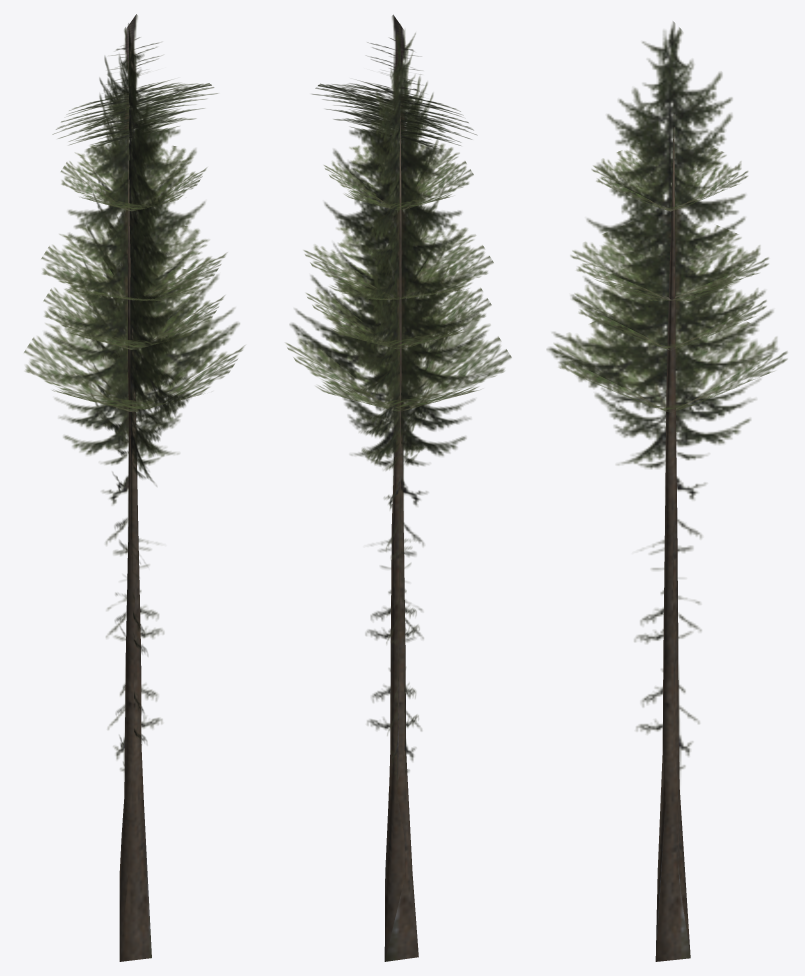
Rendered from tree_07.glb.
The picture shows the model from 3 angles, left to right: view 1: azimuth 30°, elevation 25°; view 2: azimuth 150°, elevation 25°; view 3: azimuth 270°, elevation 25°; orthographic projection.
Parts seen in each view (by area): view 1: Background_Tree_Atlas.006_Background_Tree_Atlas_0; view 2: Background_Tree_Atlas.006_Background_Tree_Atlas_0; view 3: Background_Tree_Atlas.006_Background_Tree_Atlas_0.
Boxes of the visible parts, x1,y1,x2,y2 form: Background_Tree_Atlas.006_Background_Tree_Atlas_0: (24, 14, 244, 961); Background_Tree_Atlas.006_Background_Tree_Atlas_0: (286, 14, 511, 961); Background_Tree_Atlas.006_Background_Tree_Atlas_0: (546, 21, 787, 961).
Size of the model in its own units: 6.1 by 25.78 by 6.07.
1 material, 1 textured.
